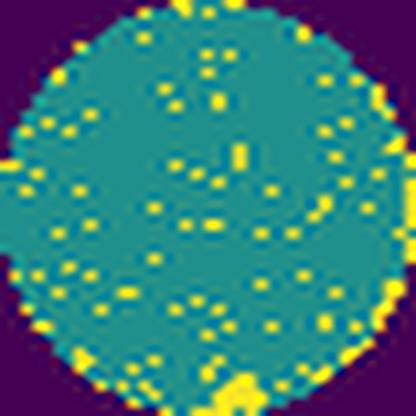Edge-Loc: (186, 365, 273, 416)
